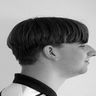ear: (40, 39, 63, 66)
